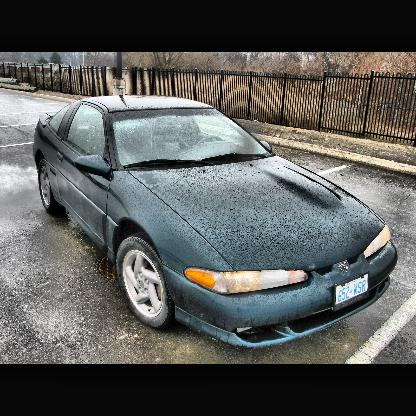Eagle Talon Hatchback 1998: (35, 97, 400, 353)
